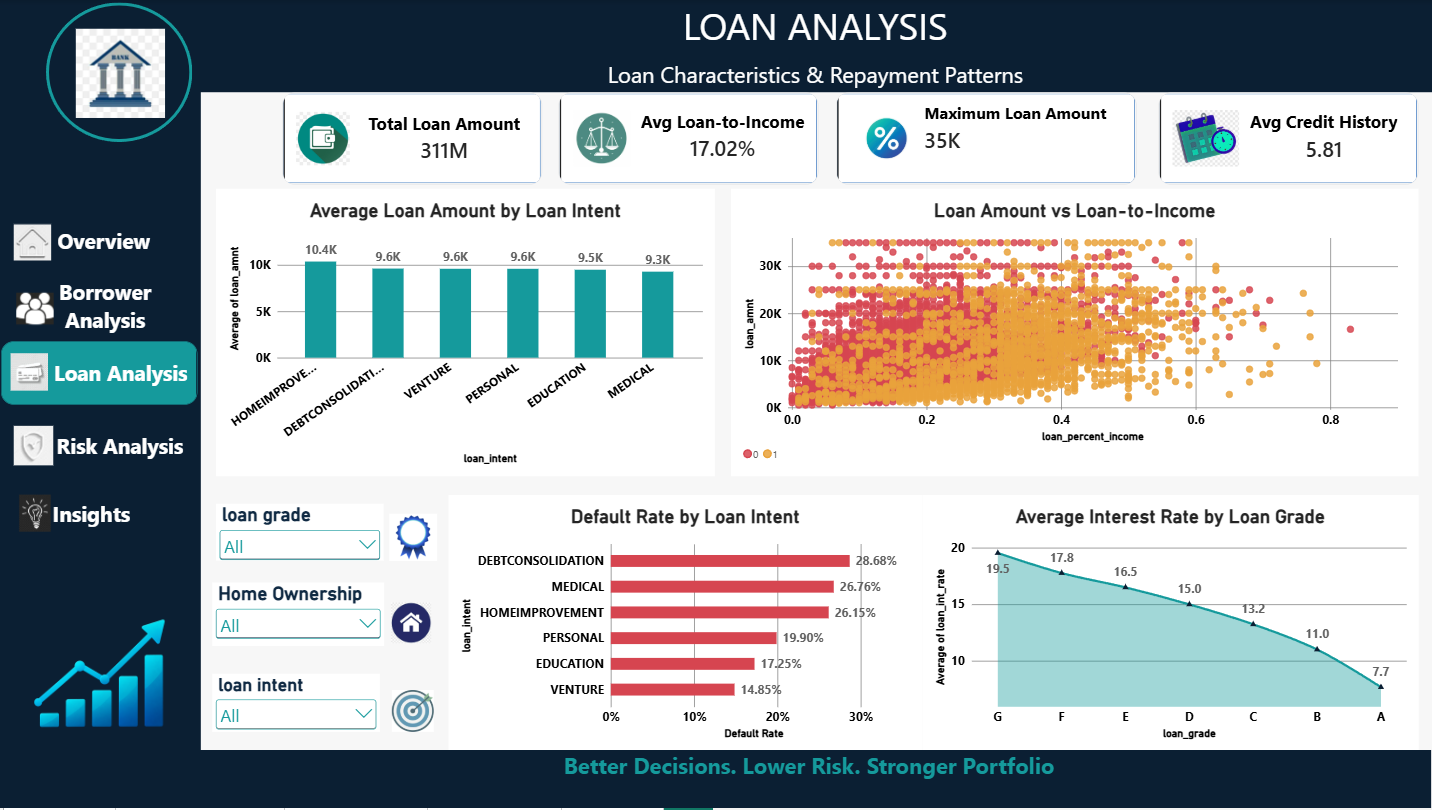

What the dashboard file says about the page in this screenshot:
{"tool":"powerbi","page":{"name":"Loan Analysis","canvas":[1920,1080],"ordinal":2},"visuals":[{"type":"textbox","title":"LOAN ANALYSIS","box":[268.8,0,1651.4,123.6],"z":0},{"type":"textbox","box":[0,0,273.8,1080.3],"z":1000},{"type":"cardVisual","fields":{"Data":["credit_risk_analysis credit_risk.Total Loan Amount"]},"box":[381.8,123.1,347.5,123.1],"z":2000},{"type":"cardVisual","fields":{"Data":["credit_risk_analysis credit_risk.Avg Credit History"]},"box":[1552.7,123.1,347.5,123.1],"z":3000},{"type":"cardVisual","fields":{"Data":["credit_risk_analysis credit_risk.Avg Loan Income Ratio"]},"box":[751,123.1,347.5,123.1],"z":4000},{"type":"cardVisual","fields":{"Data":["credit_risk_analysis credit_risk.Maximum Loan Amount"]},"box":[1122,123.1,401.7,123.1],"z":5000},{"type":"barChart","title":"Default Rate by Loan Intent","fields":{"Y":["credit_risk_analysis credit_risk.Default Rate"],"Category":["credit_risk_analysis credit_risk.loan_intent"]},"box":[604.5,661.2,632.8,342.3],"z":6000},{"type":"clusteredColumnChart","title":"Average Loan Amount by Loan Intent","fields":{"Category":["credit_risk_analysis credit_risk.loan_intent"],"Y":["Avg(credit_risk_analysis credit_risk.loan_amnt)"]},"box":[293.9,252.1,666.2,384],"z":7000},{"type":"lineChart","title":"Average Interest Rate by Loan Grade","fields":{"Category":["credit_risk_analysis credit_risk.loan_grade"],"Y":["Avg(credit_risk_analysis credit_risk.loan_int_rate)"]},"box":[1237.3,661.2,662.9,342.3],"z":8000},{"type":"scatterChart","title":"Loan Amount vs Loan-to-Income","fields":{"Y":["credit_risk_analysis credit_risk.loan_amnt"],"X":["credit_risk_analysis credit_risk.loan_percent_income"],"Series":["credit_risk_analysis credit_risk.loan_status"]},"box":[981.8,252.1,918.4,384],"z":9000},{"type":"slicer","fields":{"Values":["credit_risk_analysis credit_risk.loan_grade"]},"box":[293.9,672.9,224.4,76],"z":10000},{"type":"slicer","title":"Home Ownership","fields":{"Values":["credit_risk_analysis credit_risk.person_home_ownership"]},"box":[288.9,778.1,229.8,85.1],"z":11000},{"type":"slicer","fields":{"Values":["credit_risk_analysis credit_risk.loan_intent"]},"box":[288.9,900,224.4,77.8],"z":12000},{"type":"actionButton","box":[11.7,280.5,238.8,83.5],"z":13000},{"type":"actionButton","box":[15,364,235.4,98.5],"z":14000},{"type":"actionButton","box":[6.7,455.8,262.2,85.2],"z":15000},{"type":"actionButton","box":[11.7,556,250.5,80.1],"z":16000},{"type":"actionButton","box":[15,647.9,198.7,76.8],"z":17000},{"type":"image","box":[43.4,38,246.1,119.4],"z":18000},{"type":"shape","box":[67,3.6,195.4,186.4],"z":19000},{"type":"image","box":[509.3,686.3,95.9,63.3],"z":20000},{"type":"image","box":[509.3,804.8,90.5,54.3],"z":21000},{"type":"image","box":[516,921.7,81.4,56.1],"z":22000},{"type":"textbox","title":"Better Decisions. Lower Risk. Stronger Portfolio","box":[255.5,1001.9,1661.4,78.5],"z":23000},{"type":"image","box":[11.7,749.7,243.8,300.6],"z":24000}]}

Visuals, with their boxes on the page's 1920x1080 design canvas (x1, y1, x2, y2). These are canvas units, not pixel positions in the 1432x810 screenshot, which may show the page scaled, cropped or inside an application window:
"LOAN ANALYSIS" textbox: (x1=269, y1=0, x2=1920, y2=124)
textbox: (x1=0, y1=0, x2=274, y2=1080)
cardVisual - credit_risk_analysis credit_risk.Total Loan Amount: (x1=382, y1=123, x2=729, y2=246)
cardVisual - credit_risk_analysis credit_risk.Avg Credit History: (x1=1553, y1=123, x2=1900, y2=246)
cardVisual - credit_risk_analysis credit_risk.Avg Loan Income Ratio: (x1=751, y1=123, x2=1098, y2=246)
cardVisual - credit_risk_analysis credit_risk.Maximum Loan Amount: (x1=1122, y1=123, x2=1524, y2=246)
"Default Rate by Loan Intent" barChart: (x1=604, y1=661, x2=1237, y2=1004)
"Average Loan Amount by Loan Intent" clusteredColumnChart: (x1=294, y1=252, x2=960, y2=636)
"Average Interest Rate by Loan Grade" lineChart: (x1=1237, y1=661, x2=1900, y2=1004)
"Loan Amount vs Loan-to-Income" scatterChart: (x1=982, y1=252, x2=1900, y2=636)
slicer - credit_risk_analysis credit_risk.loan_grade: (x1=294, y1=673, x2=518, y2=749)
"Home Ownership" slicer: (x1=289, y1=778, x2=519, y2=863)
slicer - credit_risk_analysis credit_risk.loan_intent: (x1=289, y1=900, x2=513, y2=978)
actionButton: (x1=12, y1=280, x2=250, y2=364)
actionButton: (x1=15, y1=364, x2=250, y2=462)
actionButton: (x1=7, y1=456, x2=269, y2=541)
actionButton: (x1=12, y1=556, x2=262, y2=636)
actionButton: (x1=15, y1=648, x2=214, y2=725)
image: (x1=43, y1=38, x2=290, y2=157)
shape: (x1=67, y1=4, x2=262, y2=190)
image: (x1=509, y1=686, x2=605, y2=750)
image: (x1=509, y1=805, x2=600, y2=859)
image: (x1=516, y1=922, x2=597, y2=978)
"Better Decisions. Lower Risk. Stronger Portfolio" textbox: (x1=256, y1=1002, x2=1917, y2=1080)
image: (x1=12, y1=750, x2=256, y2=1050)
